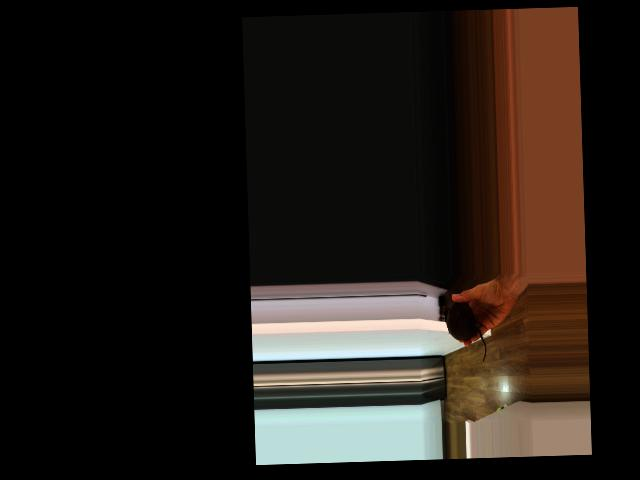beet: (444, 301, 486, 363)
